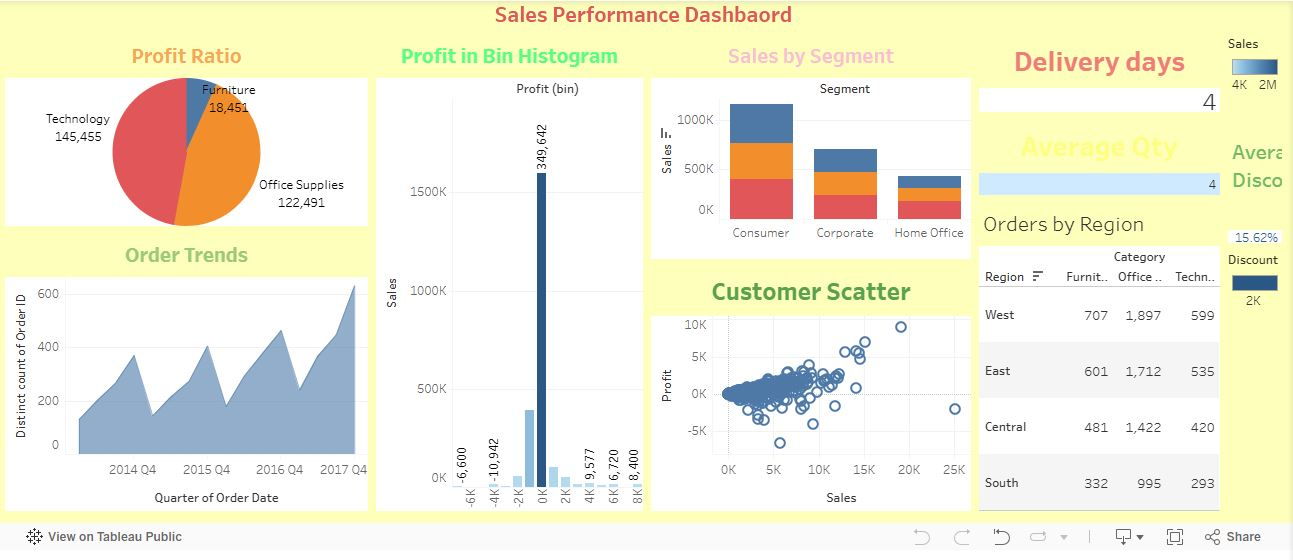

Layout of this report page (visuals, bound fields, positions):
{"tool":"tableau","page":{"name":"Sales Performace Dashboard","canvas":[1000,1000],"units":"permille","ordinal":1},"visuals":[{"type":"title","box":[6,14.5,988.1,67]},{"type":"worksheet","title":"Profit Ratio","mark":"Pie","box":[6,81.5,285.9,360.5]},{"type":"worksheet","title":"Profit in Bins Histogram","mark":"Automatic","rows":["Sales"],"cols":["Profit (bin)"],"box":[291.9,81.5,211.6,904]},{"type":"worksheet","title":"Sales by Segment","mark":"Bar","rows":["Sales"],"cols":["Segment"],"box":[503.5,81.5,252.7,420.3]},{"type":"worksheet","title":"Avg Delivery","mark":"Automatic","box":[756.2,81.5,191.6,158.5]},{"type":"legend","title":"Profit in Bins Histogram","param":"[federated.1v8ne260ecujwy1gh2tqk1e4bkvo].[sum:Sales:qk]","box":[947.8,81.5,46.3,117.8]},{"type":"worksheet","title":"Avg Discount","mark":"Automatic","box":[947.8,199.3,46.3,300.7]},{"type":"worksheet","title":"Average Qty","mark":"Automatic","box":[756.2,240.1,191.6,155.2]},{"type":"worksheet","title":"Orders by Region","mark":"Text","rows":["Region"],"cols":["Category"],"box":[756.2,395.2,191.6,576.1]},{"type":"worksheet","title":"Order Trend","mark":"Area","rows":["Order ID"],"cols":["Order Date"],"box":[6,442,285.9,543.5]},{"type":"legend","title":"Avg Discount","param":"[federated.1v8ne260ecujwy1gh2tqk1e4bkvo].[sum:Discount:qk]","box":[947.8,500,46.3,485.5]},{"type":"worksheet","title":"Cust Profit vs Sales","mark":"Automatic","rows":["Profit"],"cols":["Sales"],"box":[503.5,501.8,252.7,483.7]}]}

Visuals, with their boxes on the dashboard's canvas, which has no fixed pixel size, in thousandths of its width and height (x1, y1, x2, y2). These are canvas units, not pixel positions in the 1293x560 screenshot, which may show the page scaled, cropped or inside an application window:
title: bbox=(6, 14, 994, 82)
"Profit Ratio" worksheet (Pie marks): bbox=(6, 82, 292, 442)
"Profit in Bins Histogram" worksheet: bbox=(292, 82, 504, 986)
"Sales by Segment" worksheet (Bar marks): bbox=(504, 82, 756, 502)
"Avg Delivery" worksheet: bbox=(756, 82, 948, 240)
"Profit in Bins Histogram" legend: bbox=(948, 82, 994, 199)
"Avg Discount" worksheet: bbox=(948, 199, 994, 500)
"Average Qty" worksheet: bbox=(756, 240, 948, 395)
"Orders by Region" worksheet (Text marks): bbox=(756, 395, 948, 971)
"Order Trend" worksheet (Area marks): bbox=(6, 442, 292, 986)
"Avg Discount" legend: bbox=(948, 500, 994, 986)
"Cust Profit vs Sales" worksheet: bbox=(504, 502, 756, 986)
